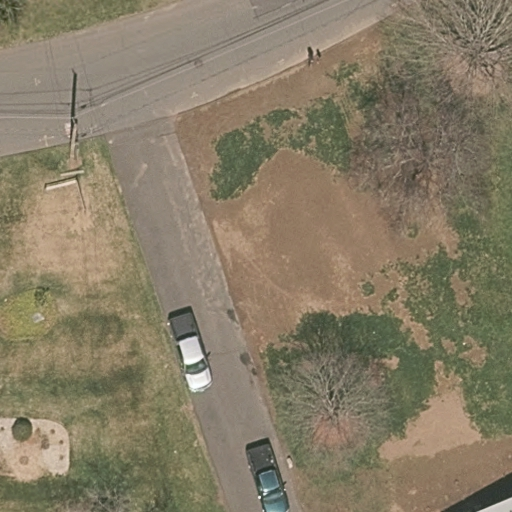DT: (61, 119, 86, 176)
